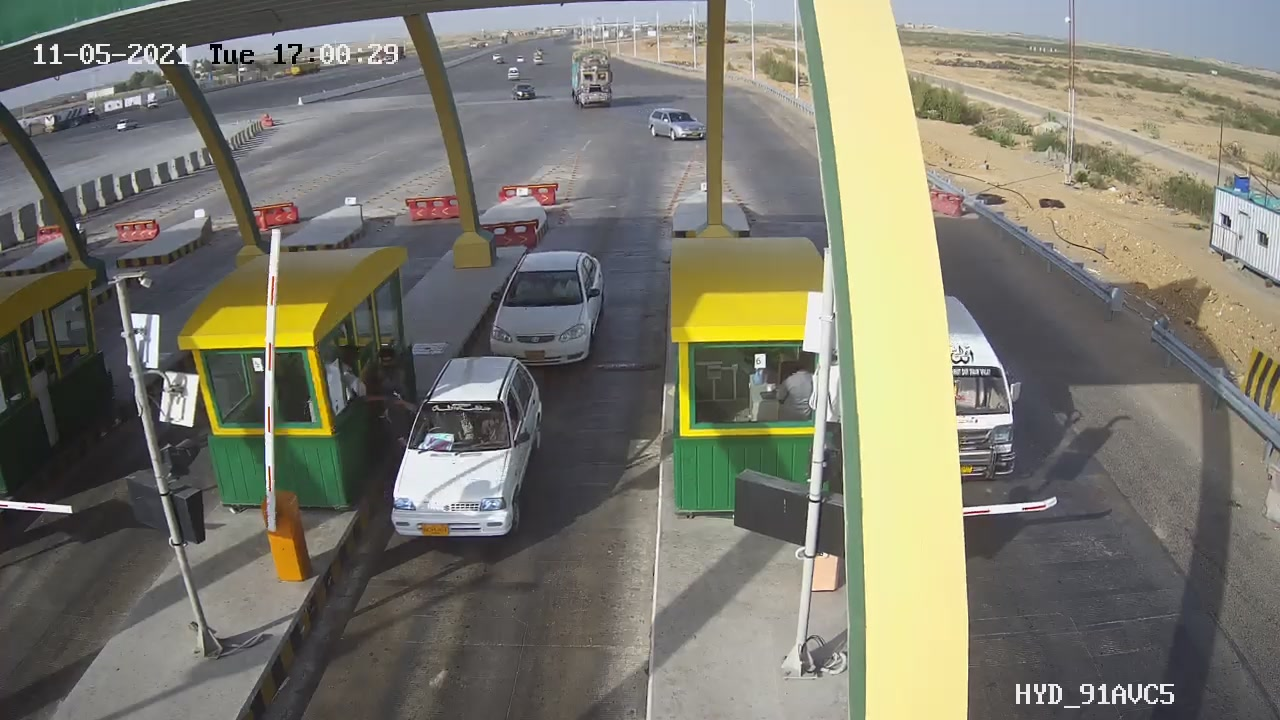F1: (381, 340, 557, 560), (483, 239, 617, 379)
